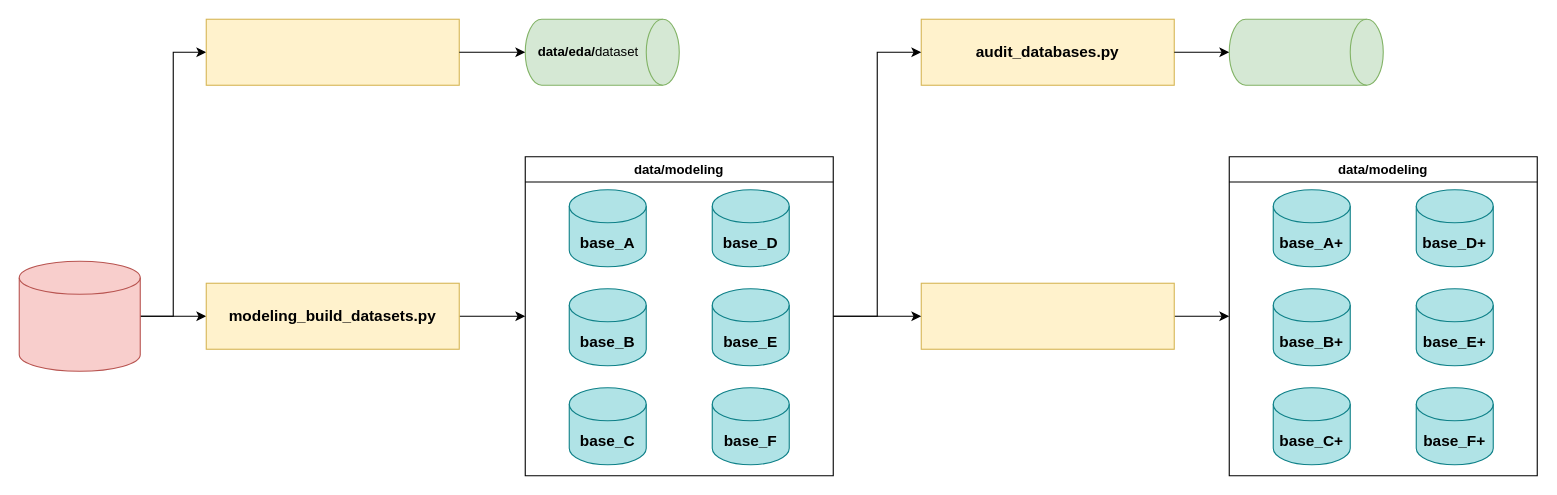
The diagram is 1557 pixels wide and 495 high, and some of its shapes have lost their labels. Each missing label, with the box of its shape:
Dataset (BDQ + INMET): (18, 260, 140, 371)
dataset_missing_audit.py: (205, 18, 459, 85)
doc/ databases: (1228, 18, 1383, 85)
feature_engineering_physics.py: (920, 282, 1174, 349)
